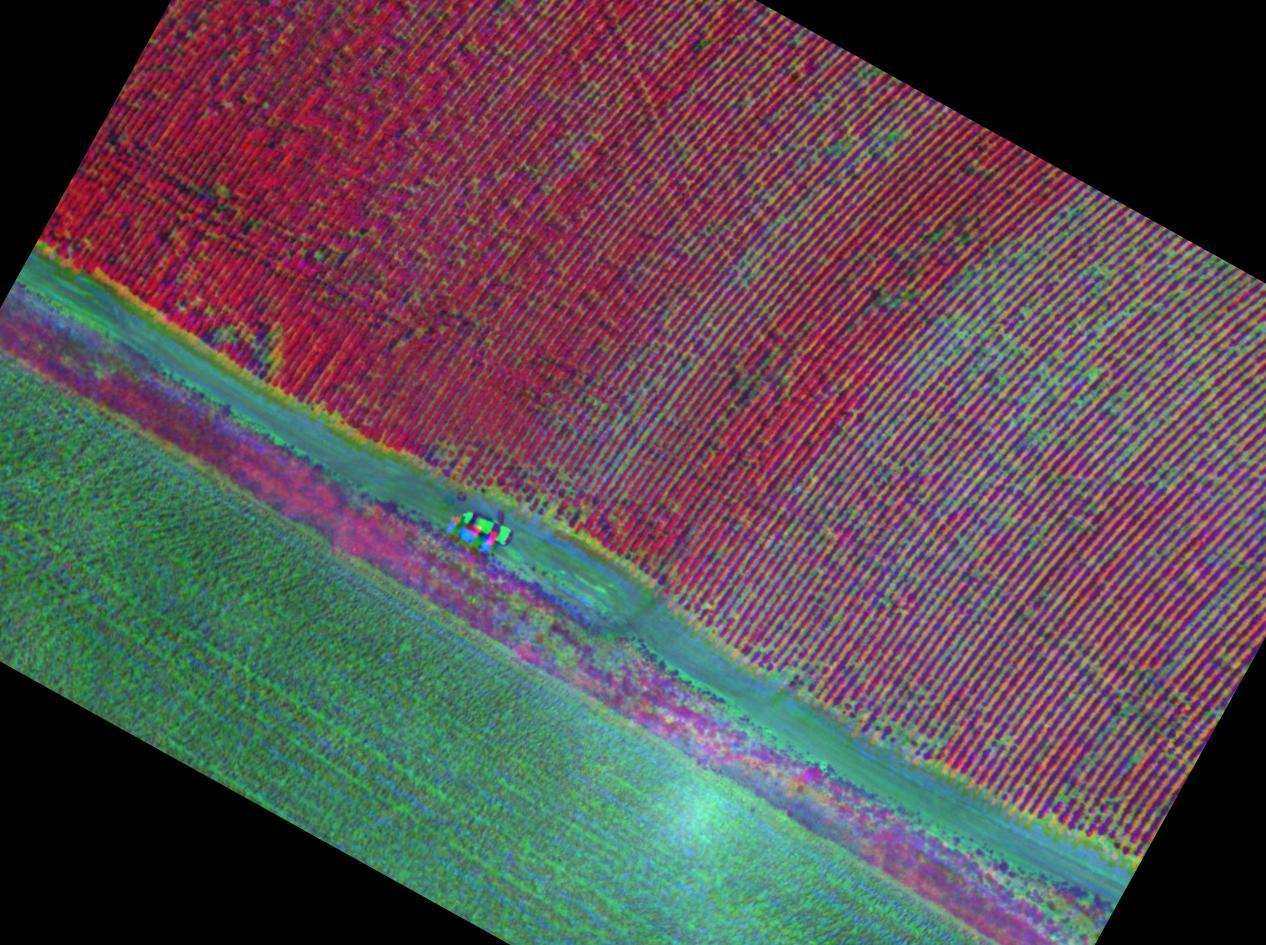dc: (848, 673, 961, 767), (933, 300, 1018, 399), (941, 450, 1047, 529), (1038, 258, 1118, 342), (738, 603, 807, 688), (1163, 270, 1235, 343), (1078, 363, 1139, 436)
